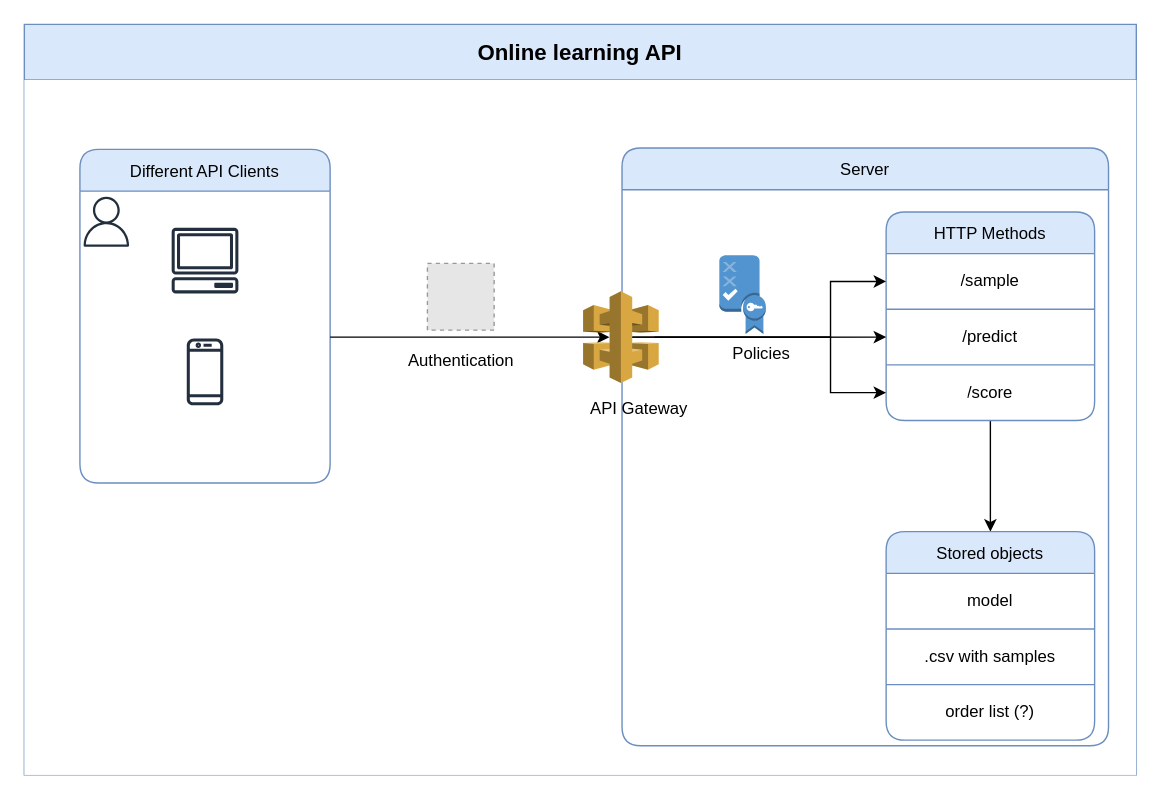
Some shapes in this 1161 by 799 pixel diagram are drawn without their labels. Grey dashed boxes stand in for pictures. Each missing label, with the centre of its shape:
"Client" belongs at [204,260].
"Mobile client" belongs at [204,371].
